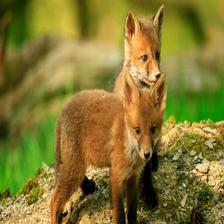fox: (42, 71, 205, 210), (112, 3, 177, 217)
